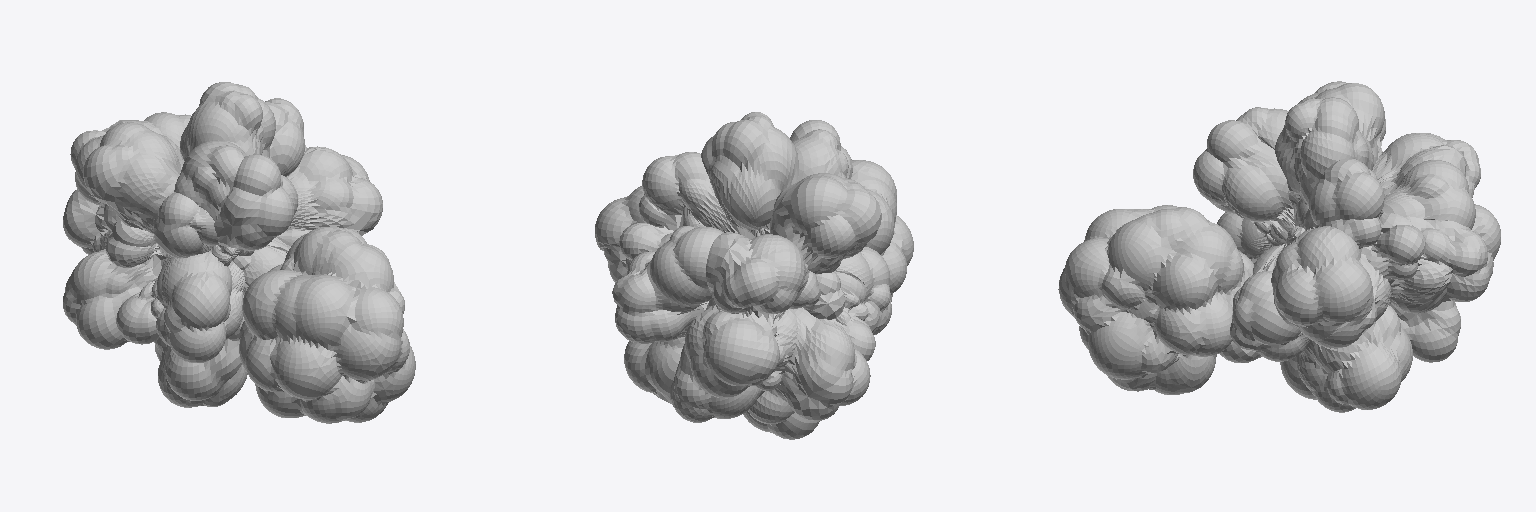
The model's file is explosion19.obj.
The picture shows the model from 3 angles: view 1: azimuth 30°, elevation 25°; view 2: azimuth 150°, elevation 25°; view 3: azimuth 270°, elevation 25°; orthographic projection.
Visible parts, largest first — view 1: Explosion_blast_2_mesh_fire_smoke_m, Explosion_blast_1_mesh_fire_smoke_m; view 2: Explosion_blast_2_mesh_fire_smoke_m, Explosion_blast_1_mesh_fire_smoke_m; view 3: Explosion_blast_2_mesh_fire_smoke_m, Explosion_blast_1_mesh_fire_smoke_m.
Boxes of the visible parts, x1,y1,x2,y2 form: Explosion_blast_2_mesh_fire_smoke_m: [63, 82, 382, 407]; Explosion_blast_1_mesh_fire_smoke_m: [239, 227, 415, 423]; Explosion_blast_2_mesh_fire_smoke_m: [595, 112, 891, 439]; Explosion_blast_1_mesh_fire_smoke_m: [851, 160, 913, 301]; Explosion_blast_2_mesh_fire_smoke_m: [1193, 81, 1500, 412]; Explosion_blast_1_mesh_fire_smoke_m: [1058, 205, 1253, 394].
Size of the model in its own units: 3.65 by 3.86 by 5.02.